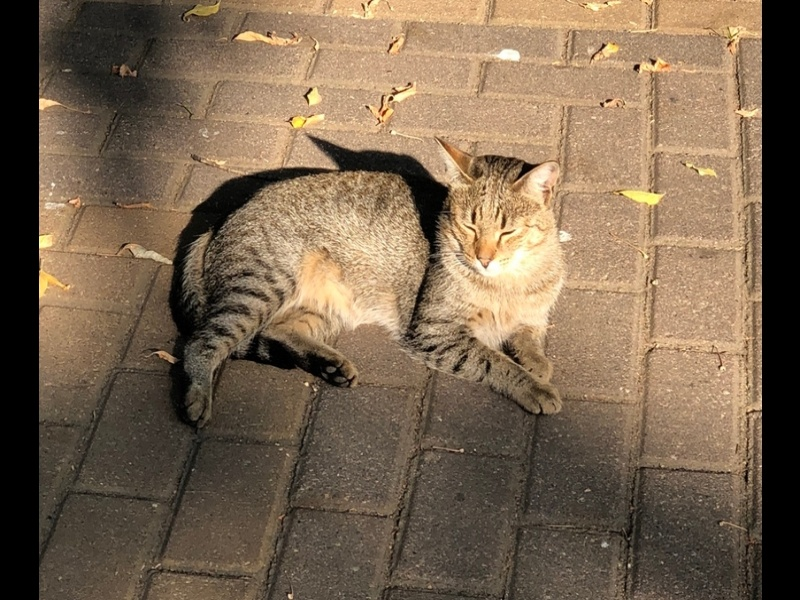cat: (168, 138, 571, 428)
